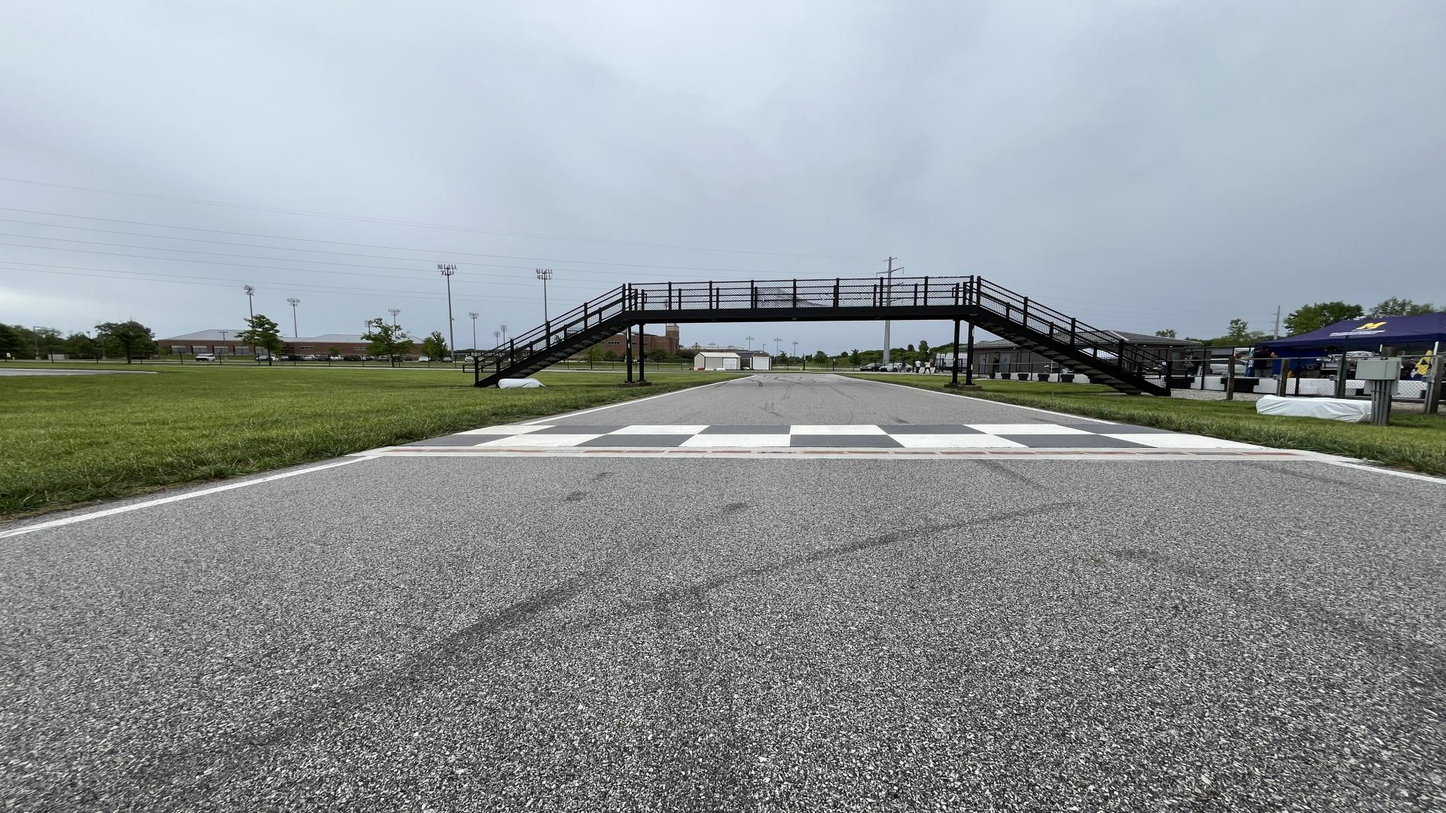white-line: (0, 455, 380, 539), (853, 379, 1121, 425), (521, 375, 756, 425), (1321, 460, 1445, 484), (806, 374, 844, 377)
